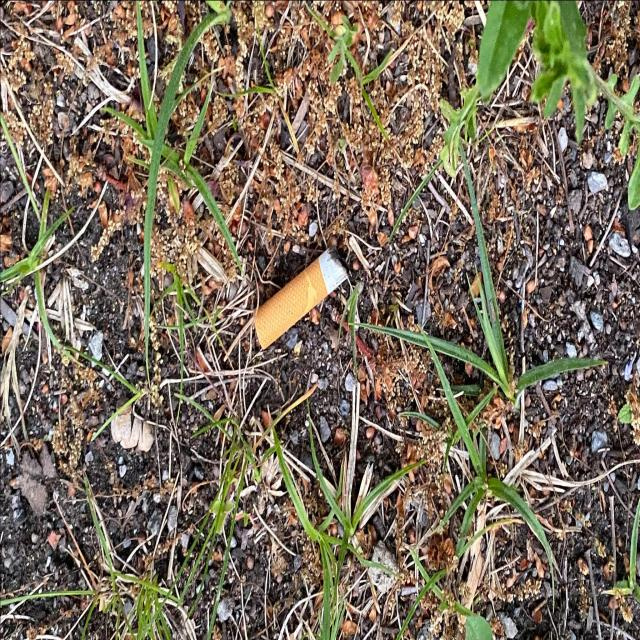other waste: (251, 243, 351, 351)
